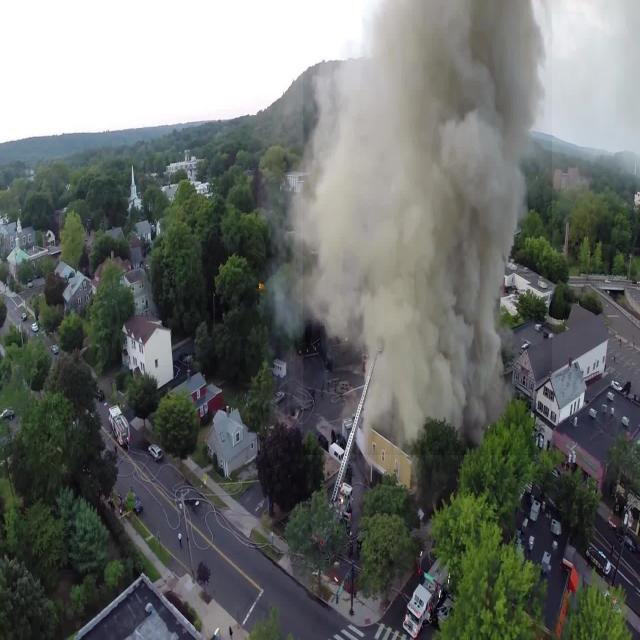Smoke: (303, 0, 552, 455)
